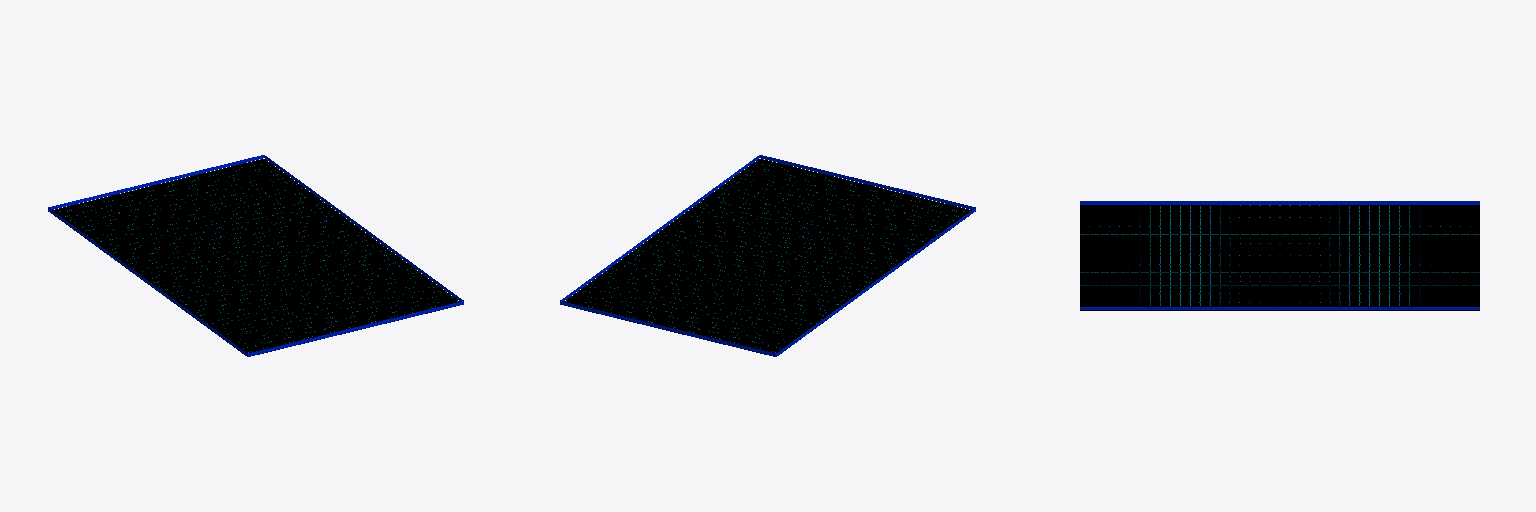
The picture shows the model from 3 angles: view 1: azimuth 30°, elevation 25°; view 2: azimuth 150°, elevation 25°; view 3: azimuth 270°, elevation 25°; orthographic projection.
Visible parts, largest first — view 1: segment, Plane.003_Plane.004, Plane.001_Plane.003, Plane.002, Plane; view 2: segment, Plane.001_Plane.003, Plane.003_Plane.004, Plane.002, Plane; view 3: segment, Plane.002, Plane.
Boxes of the visible parts, x1=… form: segment: x1=48, y1=159, x2=459, y2=354; Plane.003_Plane.004: x1=248, y1=301, x2=463, y2=356; Plane.001_Plane.003: x1=48, y1=155, x2=263, y2=209; Plane.002: x1=48, y1=208, x2=247, y2=356; Plane: x1=264, y1=155, x2=463, y2=301; segment: x1=564, y1=159, x2=975, y2=354; Plane.001_Plane.003: x1=560, y1=301, x2=775, y2=356; Plane.003_Plane.004: x1=760, y1=155, x2=975, y2=209; Plane.002: x1=776, y1=208, x2=975, y2=356; Plane: x1=560, y1=155, x2=759, y2=301; segment: x1=1080, y1=205, x2=1479, y2=310; Plane.002: x1=1080, y1=201, x2=1479, y2=204; Plane: x1=1080, y1=307, x2=1479, y2=309.
Size of the model in its own units: 25 by 0.4205 by 40.
2 materials, 1 textured.